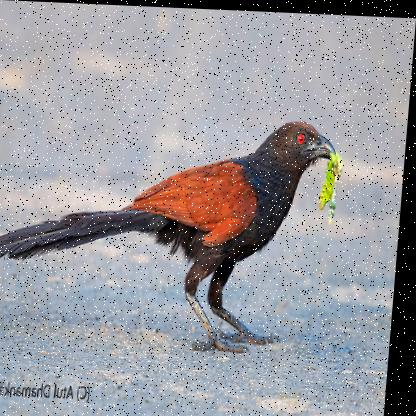Burung: (0, 107, 348, 354)
